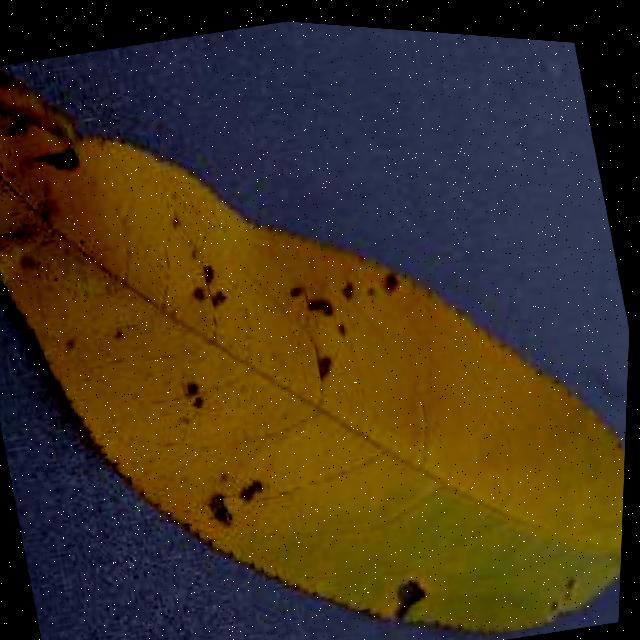Bacterial_spot: (263, 222, 461, 417), (183, 454, 296, 554), (164, 230, 245, 328), (19, 116, 106, 195), (174, 358, 223, 428)
